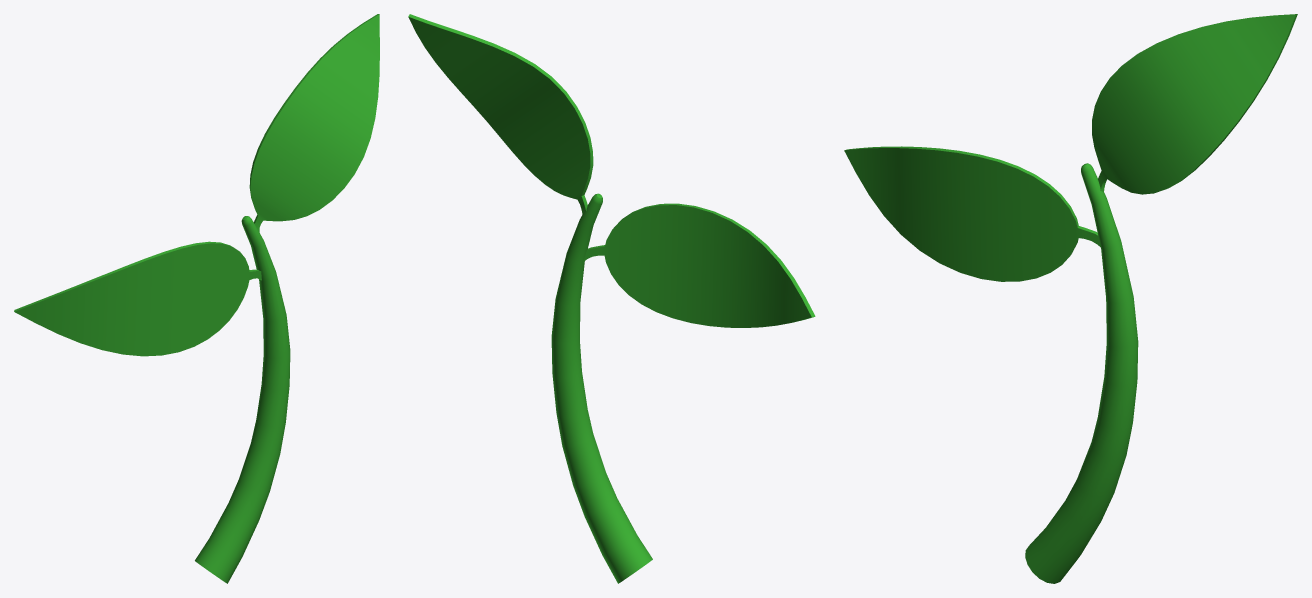
File: Seedling.gltf
3 renders of one model, left to right at view 1: azimuth 30°, elevation 25°; view 2: azimuth 150°, elevation 25°; view 3: azimuth 330°, elevation 25°, orthographic. The views are drawn at different scales.
Parts seen in each view (by area): view 1: Circle.2055, Circle.2054, Circle.2053; view 2: Circle.2055, Circle.2054, Circle.2053; view 3: Circle.2054, Circle.2055, Circle.2053.
Boxes of the visible parts, x1,y1,x2,y2 form: Circle.2055: (14,241,261,356); Circle.2054: (249,14,379,232); Circle.2053: (195,216,290,583); Circle.2055: (583,203,815,327); Circle.2054: (408,14,593,214); Circle.2053: (551,193,652,583); Circle.2054: (1092,14,1297,194); Circle.2055: (844,146,1100,281); Circle.2053: (1025,163,1138,583).
Size of the model in its own units: 1.47 by 1.91 by 0.2606.
